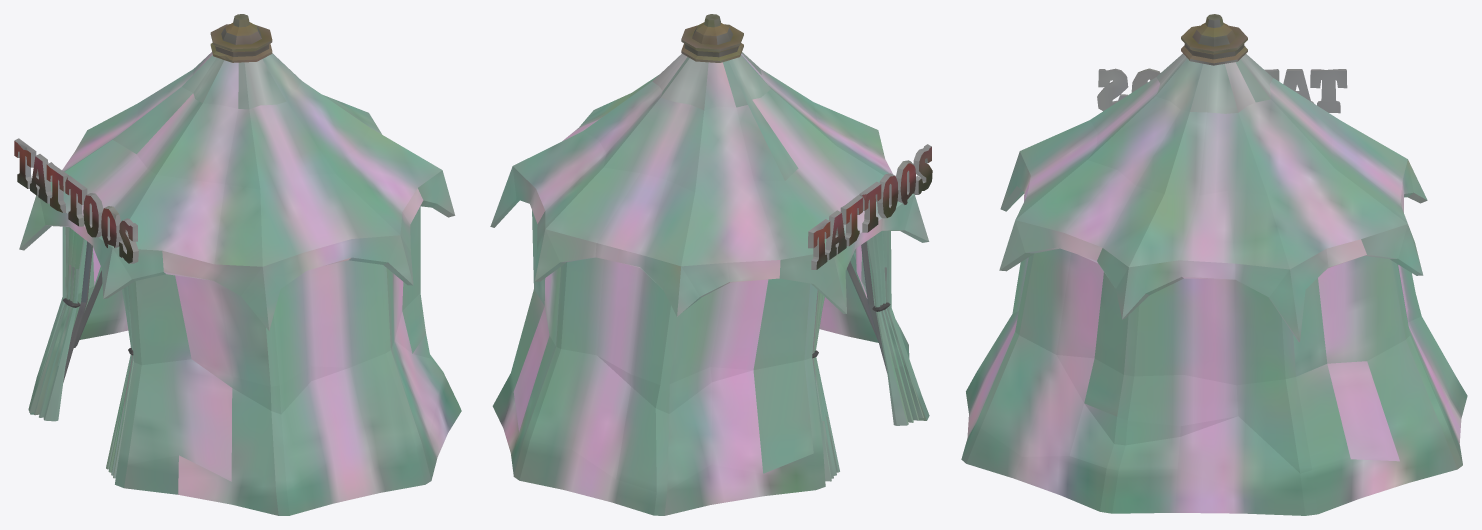
Rendered from stall_tattoos.glb.
The picture shows the model from 3 angles, left to right: view 1: azimuth 30°, elevation 25°; view 2: azimuth 150°, elevation 25°; view 3: azimuth 270°, elevation 25°; orthographic projection. The views are drawn at different scales.
Visible parts, largest first — view 1: SM_Prop_Tent_01, SM_Prop_Sign_Tattoos_01; view 2: SM_Prop_Tent_01, SM_Prop_Sign_Tattoos_01; view 3: SM_Prop_Tent_01, SM_Prop_Sign_Tattoos_01.
Part boxes in pixels (x1,y1,x2,y2): SM_Prop_Tent_01: (19,14,461,515); SM_Prop_Sign_Tattoos_01: (14,138,138,263); SM_Prop_Tent_01: (490,14,929,515); SM_Prop_Sign_Tattoos_01: (808,144,932,269); SM_Prop_Tent_01: (961,14,1467,515); SM_Prop_Sign_Tattoos_01: (1097,68,1347,113).
Size of what is drawn, in the model's own units: 4.41 by 4.65 by 5.16.
Materials: 2 (2 with a texture image).
